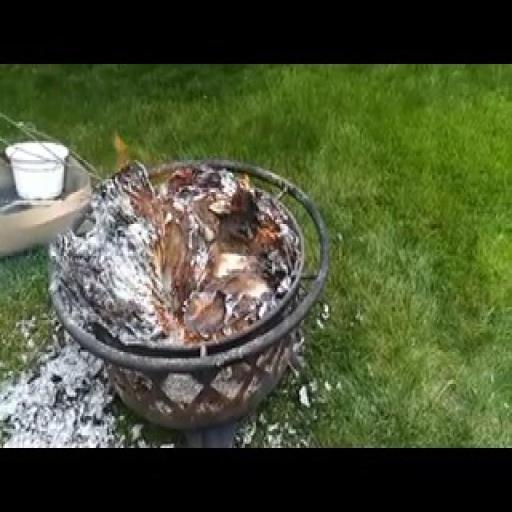smoke: (135, 234, 241, 355)
